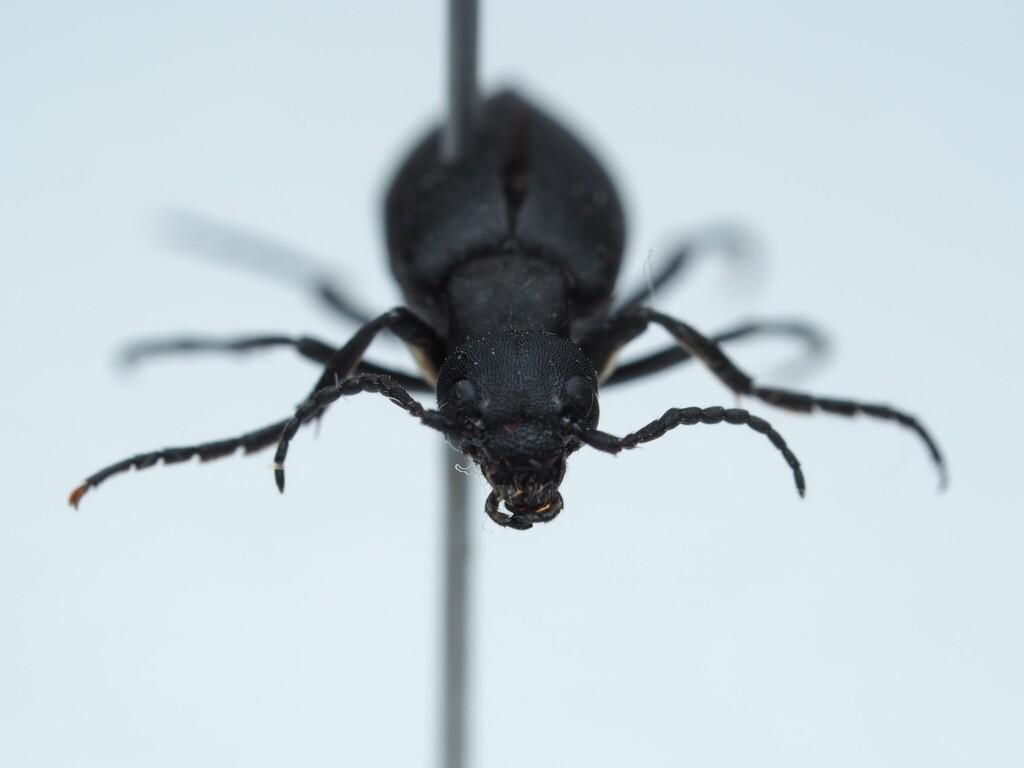blister_beetle: (0, 34, 1024, 624)
